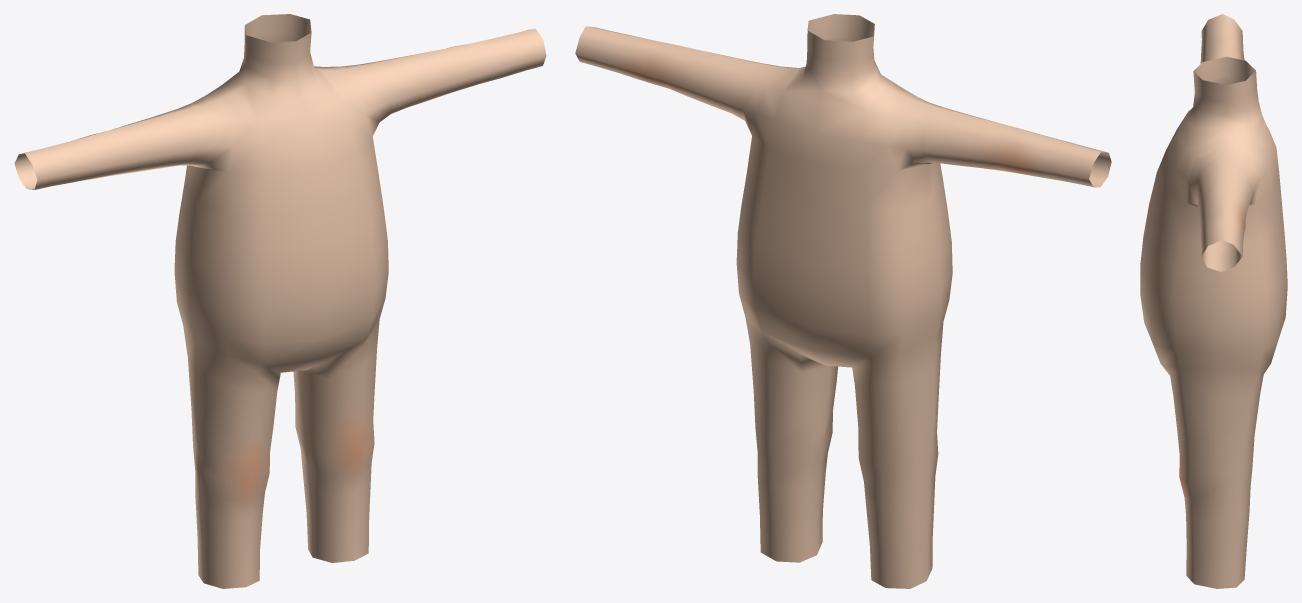
The model's file is Body_4.fbx.
3 views of the same model, side by side, from view 1: azimuth 30°, elevation 25°; view 2: azimuth 150°, elevation 25°; view 3: azimuth 270°, elevation 25° (orthographic). The views are drawn at different scales.
Parts seen in each view (by area): view 1: Body_4; view 2: Body_4; view 3: Body_4.
Part boxes in pixels (x1=…): Body_4: x1=14, y1=14, x2=546, y2=588; Body_4: x1=575, y1=14, x2=1111, y2=588; Body_4: x1=1140, y1=14, x2=1287, y2=588.
Size of the model in its own units: 95.86 by 95.87 by 26.46.
